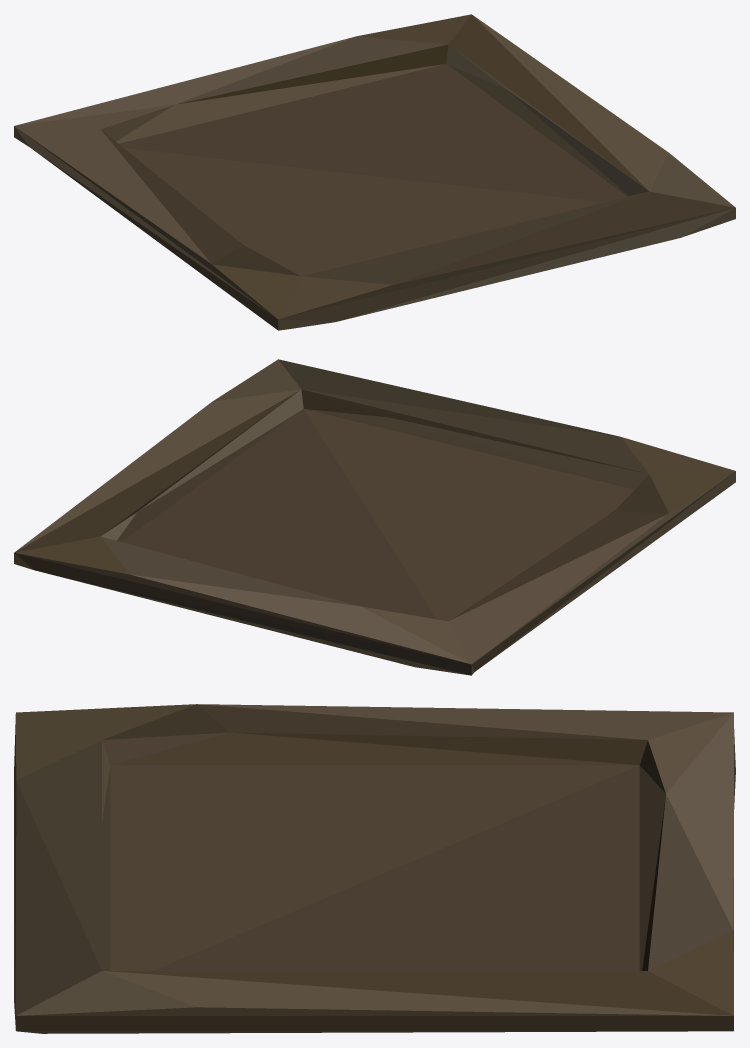
File: CrateB_Top.fbx
The picture shows the model from 3 angles, top to bottom: view 1: azimuth 30°, elevation 25°; view 2: azimuth 150°, elevation 25°; view 3: azimuth 270°, elevation 25°; orthographic projection. The views are drawn at different scales.
Visible parts, largest first — view 1: CrateB_Top; view 2: CrateB_Top; view 3: CrateB_Top.
Boxes of the visible parts, box(x1,y1,x2,y2) form: CrateB_Top: box(14, 14, 735, 330); CrateB_Top: box(14, 359, 735, 675); CrateB_Top: box(14, 704, 735, 1033).
Bounding box in the file's own units: 99.48 × 4.75 × 100.
